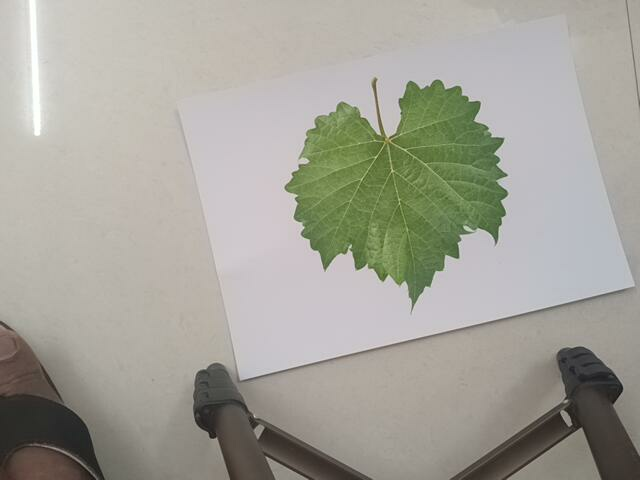Grape_Healthy: (283, 74, 544, 313)
